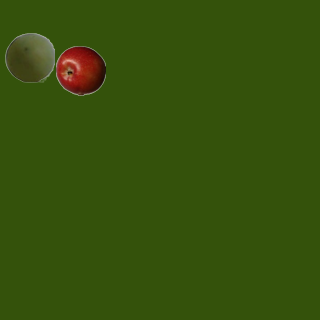Apple Braeburn: (55, 45, 105, 95)
Grape White 4: (4, 32, 54, 82)
